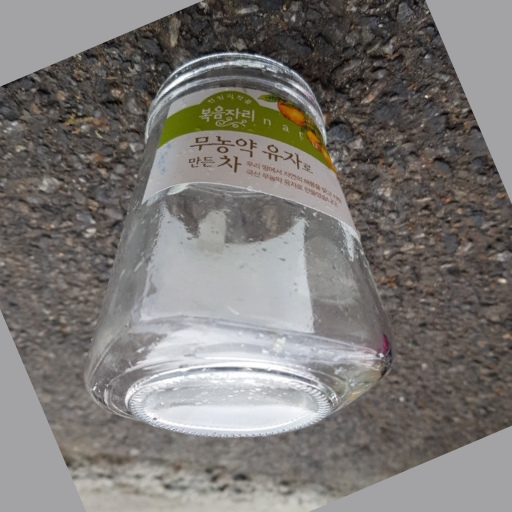Glass_5: (85, 53, 393, 441)
